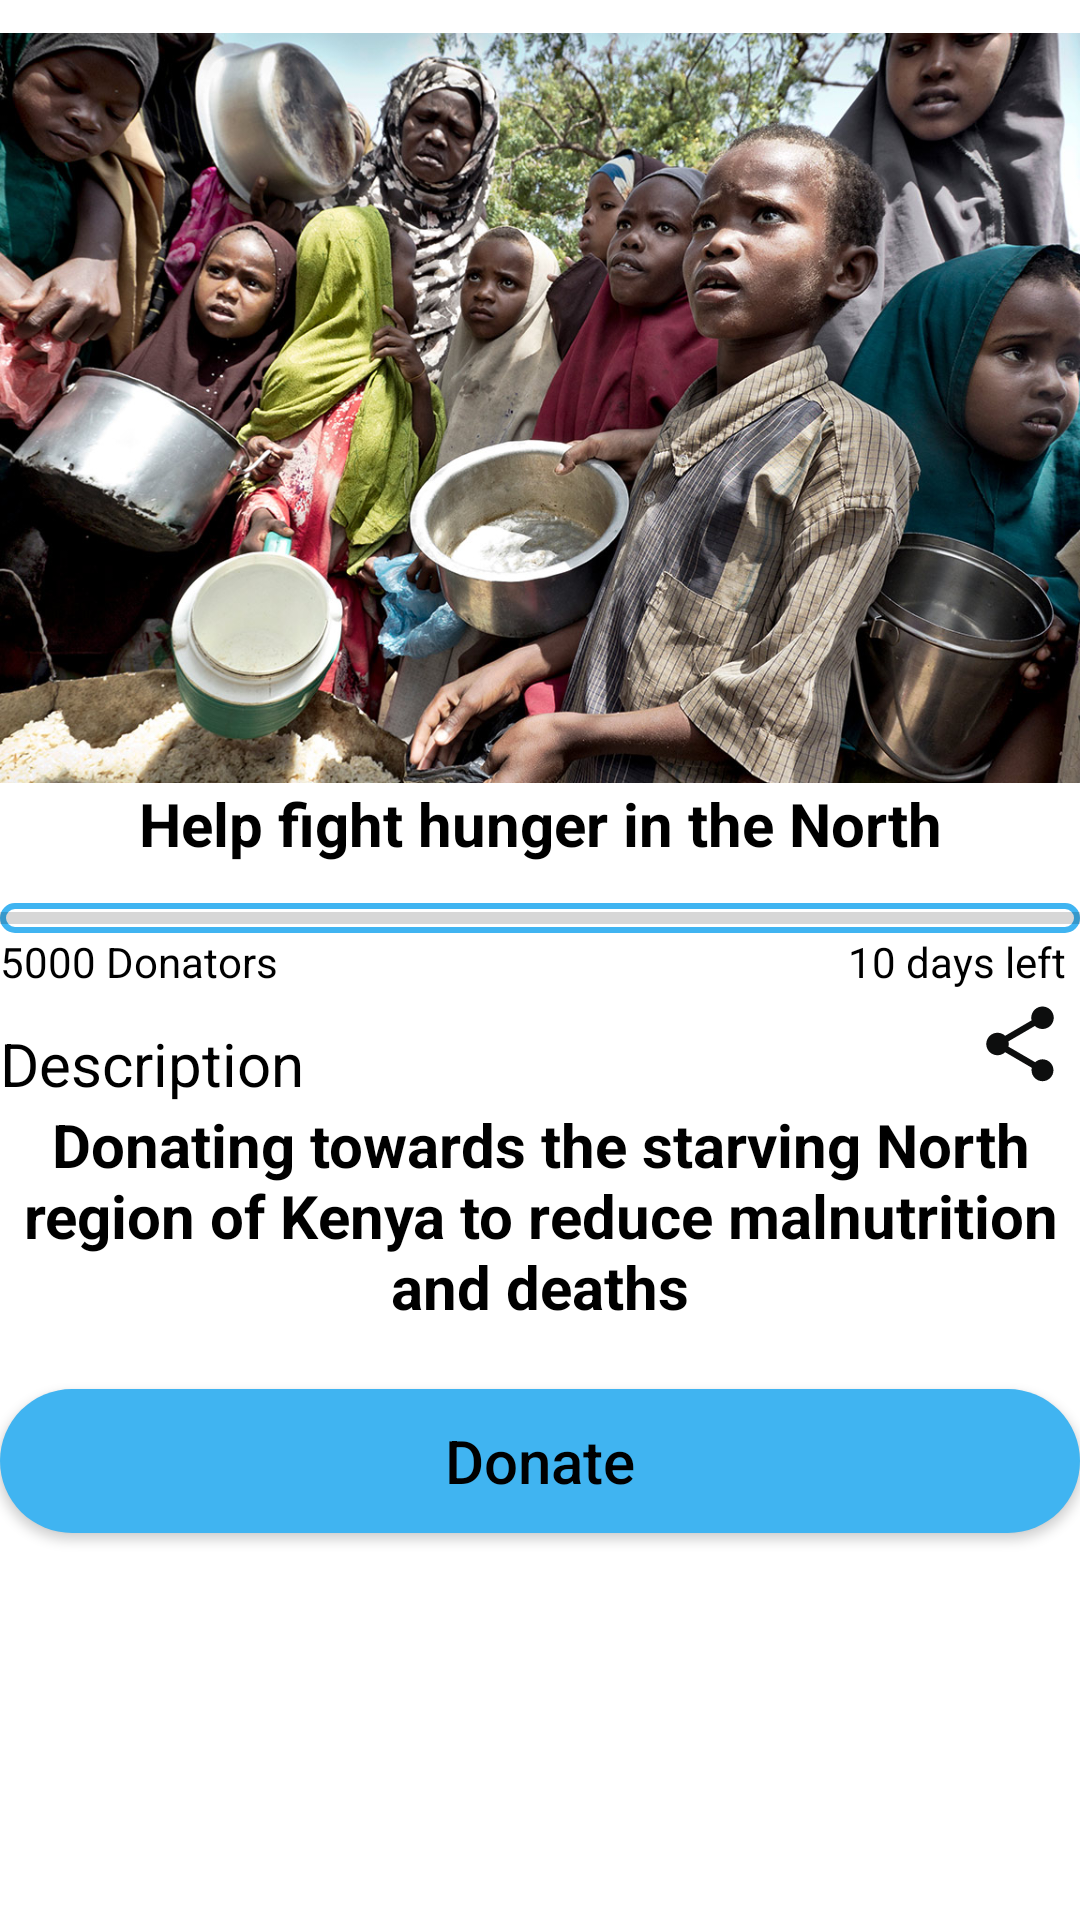

Where icons sit on this 1080×1920 app screen, as (x1, y1, x2, y2):
share: (986, 1006, 1054, 1082)
